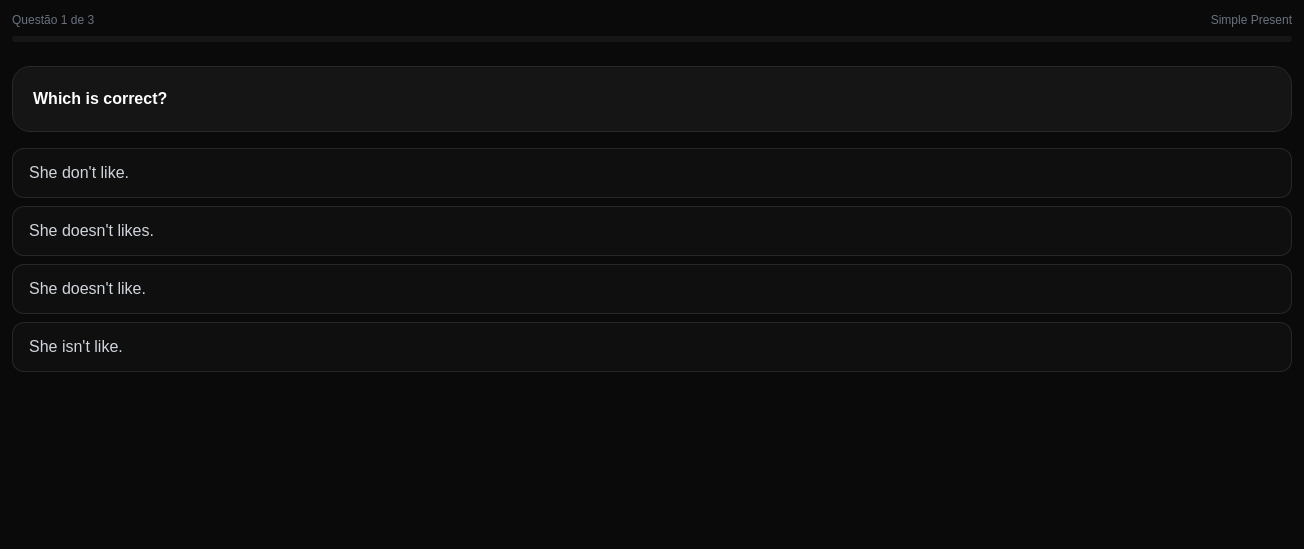
Test: QuizClient › avança para a segunda questão ao clicar Próxima
Click the button "She doesn't like." at {"x": 87, "y": 288}, box [12, 264, 1292, 314]
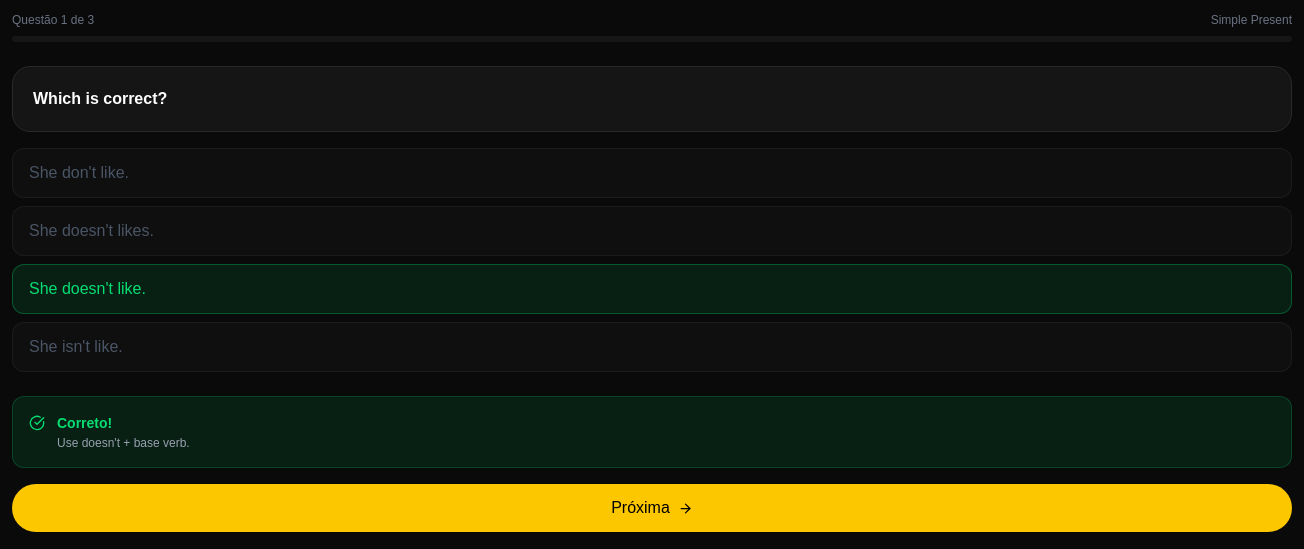
Click the button "Próxima" at {"x": 652, "y": 508}, box [12, 484, 1292, 532]
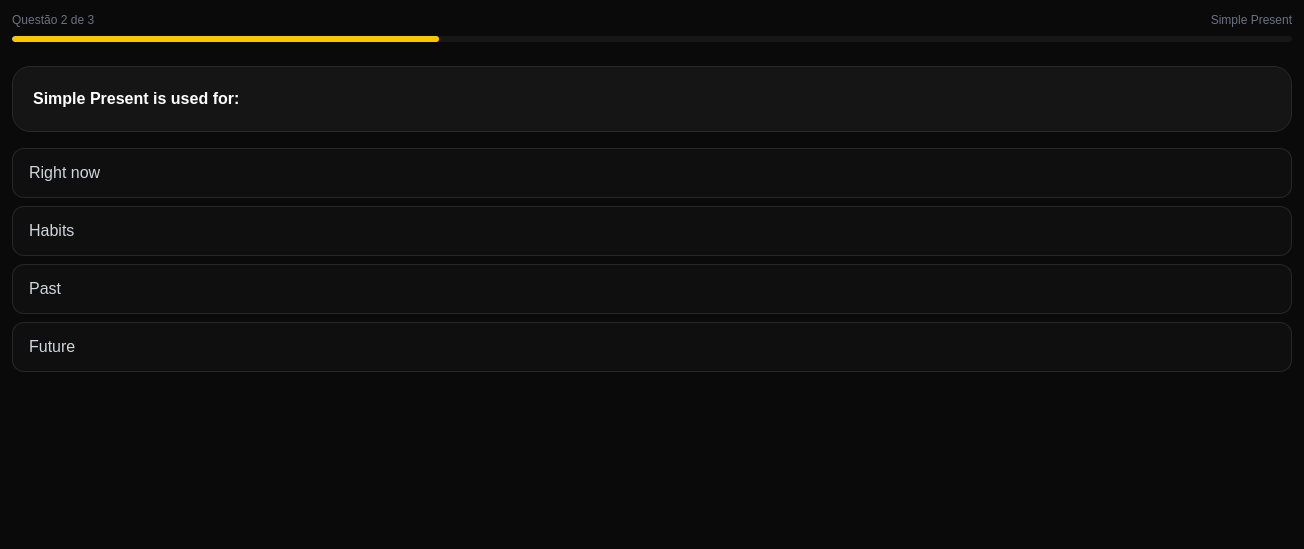
Result: the text "Simple Present is used for:" is shown at [33, 90, 239, 107]
Result: the text "Questão 2 de 3" is shown at [12, 12, 94, 28]
